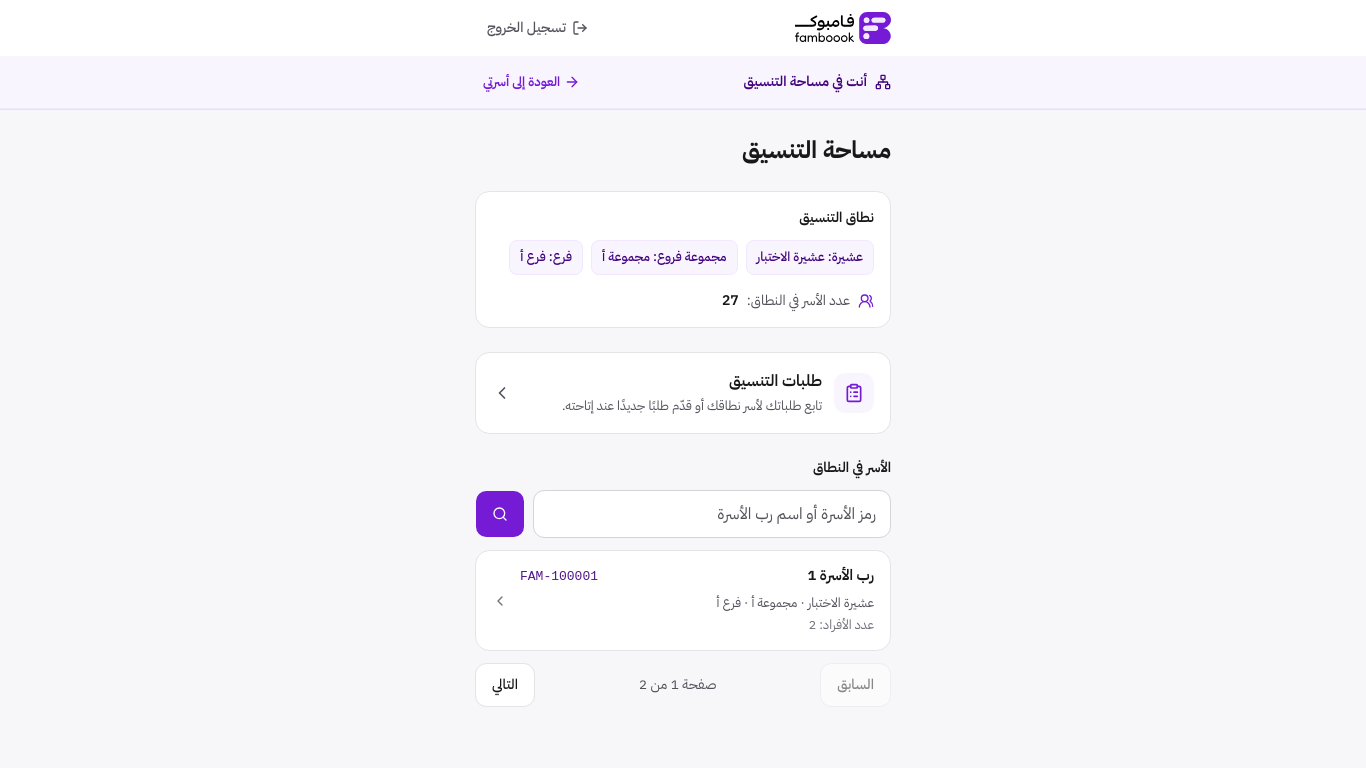
Coordinator Space › searches on the server and starts again from the first page
The image size is (1366, 768).
Expected: the text "رب الأسرة 1" is shown, [807,564,874,586]
Click the button "التالي".
click(505, 685)  # box [475,663,535,707]
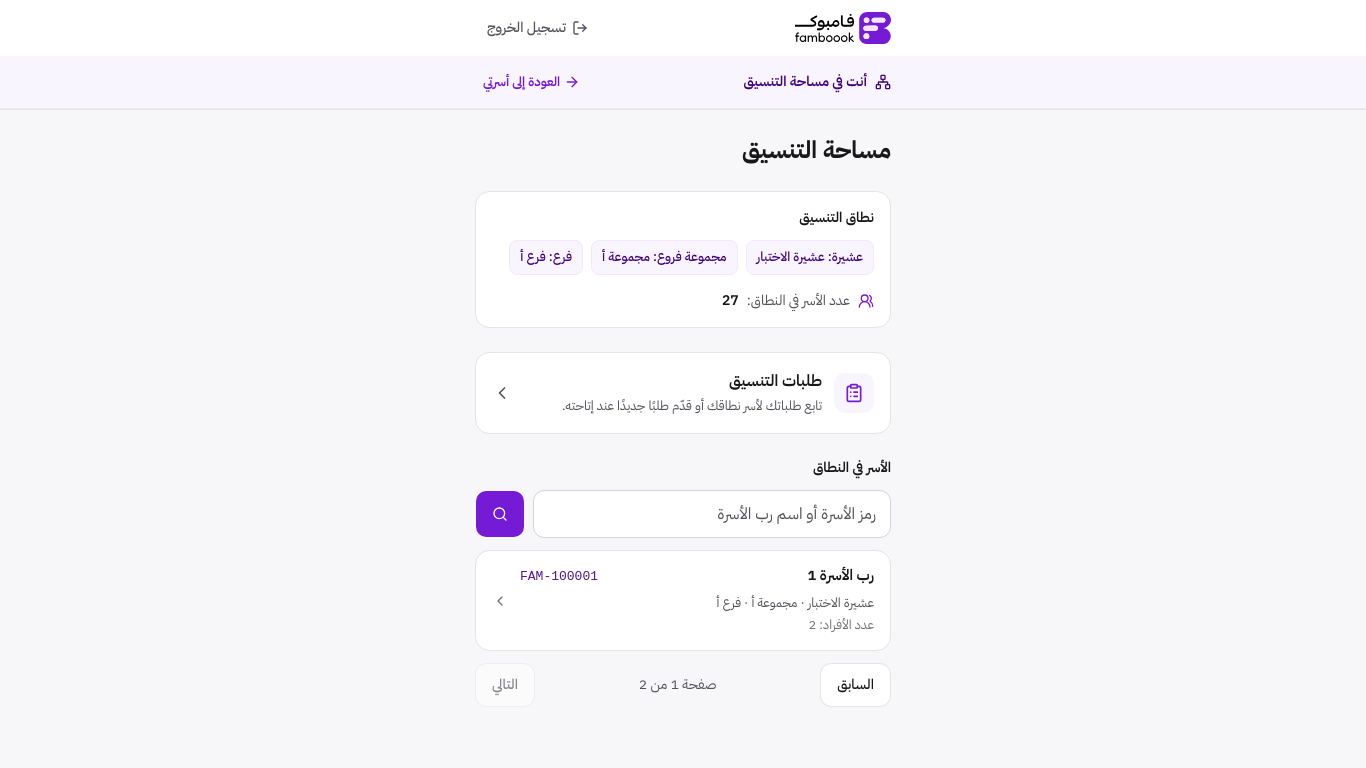
Type "FAM-1" into the search field named "بحث برمز الأسرة أو اسم رب الأسرة".
click(712, 514); type("FAM-1")  # box [533,490,891,538]
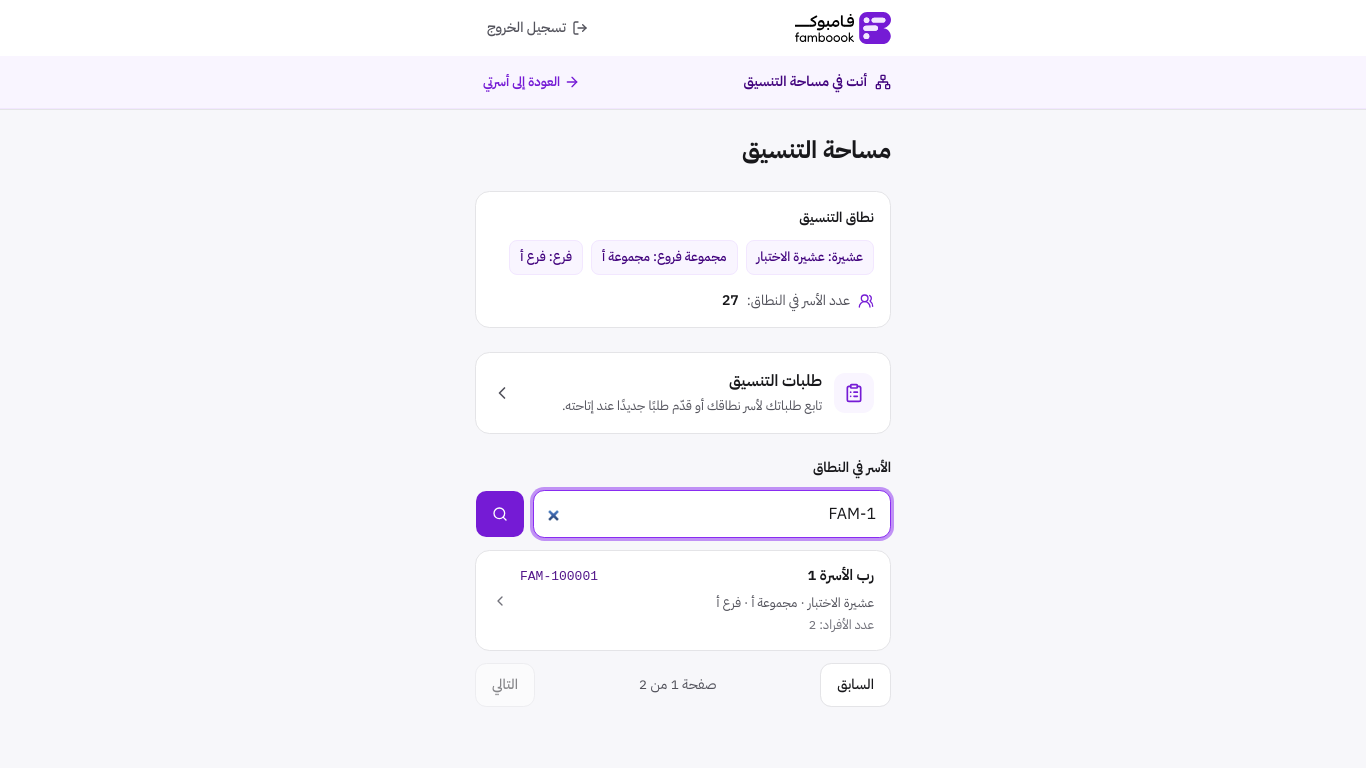
Click the button named "بحث".
click(500, 514)  # box [475,490,525,538]
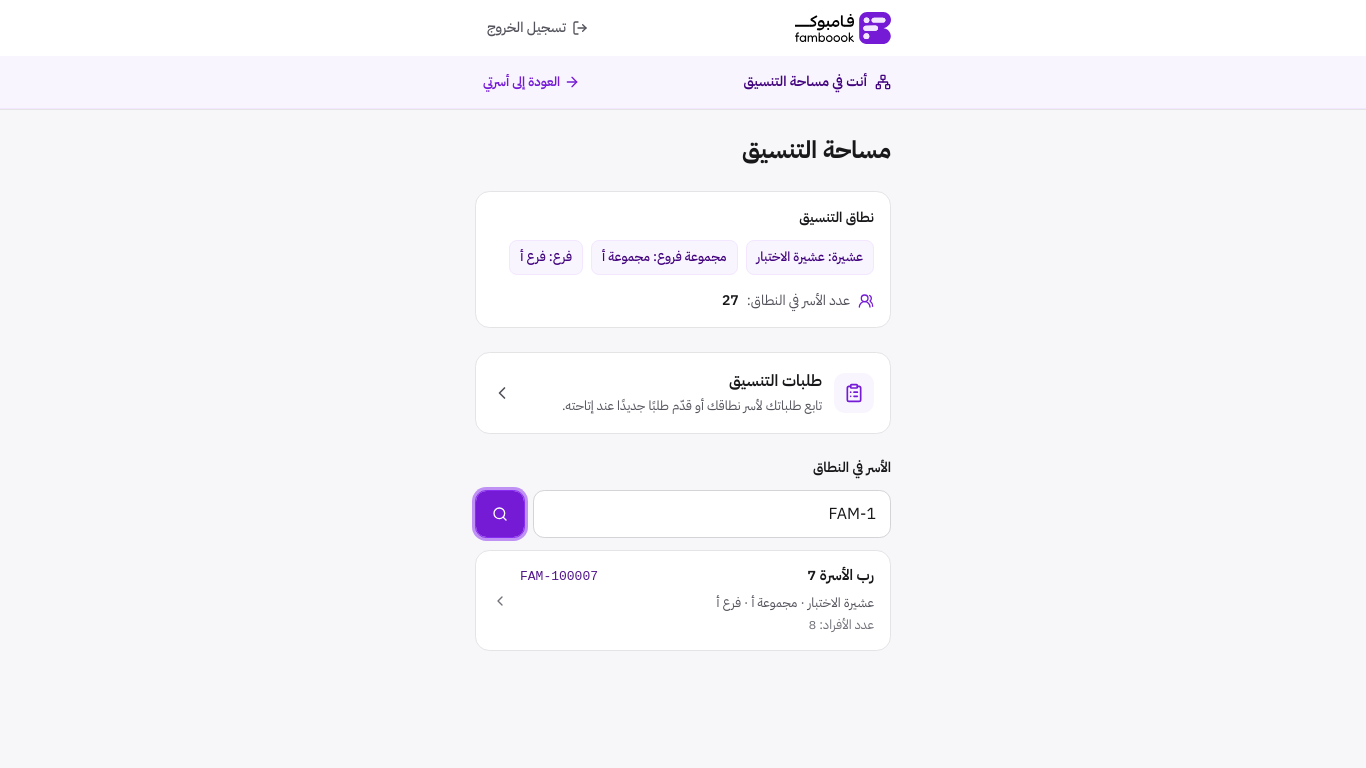
Expected: the text "رب الأسرة 7" is shown, [807,564,874,586]
